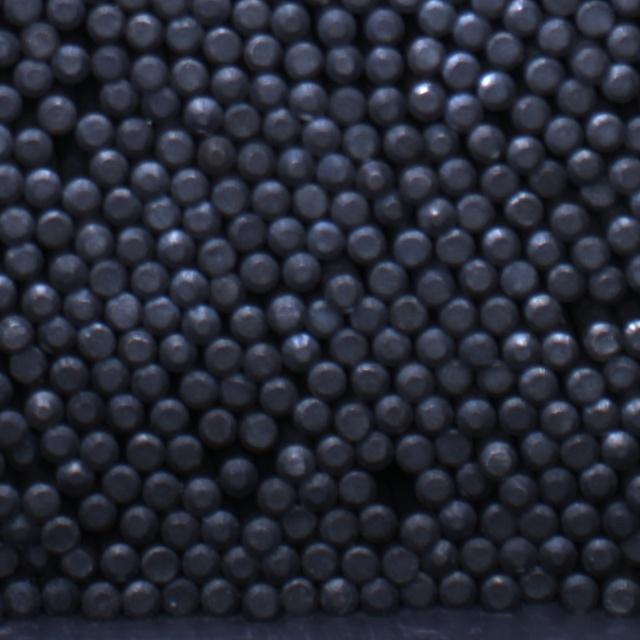tool: (98, 540, 139, 581), (584, 110, 624, 151), (455, 397, 496, 437), (316, 6, 357, 46), (481, 224, 522, 264), (220, 457, 260, 498), (476, 69, 516, 110), (266, 292, 306, 333), (522, 292, 564, 331), (442, 90, 482, 130), (38, 92, 78, 132), (272, 1, 312, 41), (22, 282, 62, 322), (357, 502, 397, 542), (145, 470, 185, 510), (355, 430, 395, 470), (396, 362, 436, 402), (288, 81, 328, 121), (25, 387, 65, 427), (184, 93, 224, 133), (130, 158, 170, 198), (295, 472, 336, 511), (51, 43, 90, 84), (538, 533, 579, 572), (408, 79, 446, 121), (323, 270, 365, 308), (54, 456, 96, 494), (374, 392, 413, 432), (523, 54, 563, 93), (82, 580, 122, 619), (82, 430, 121, 470), (358, 577, 398, 616), (126, 431, 166, 470), (580, 534, 619, 574), (314, 435, 354, 474), (240, 253, 280, 292), (76, 221, 116, 260), (198, 407, 237, 447), (416, 327, 456, 366), (281, 332, 321, 371), (183, 306, 223, 345), (40, 576, 80, 615), (169, 268, 209, 307), (439, 499, 478, 539), (182, 474, 221, 514), (120, 505, 160, 544), (583, 320, 622, 360), (561, 573, 600, 613), (200, 509, 240, 548), (160, 509, 201, 547), (578, 462, 619, 500), (568, 42, 606, 83), (369, 259, 408, 298), (307, 220, 346, 259), (333, 400, 372, 439), (319, 577, 358, 616), (16, 125, 55, 164), (396, 432, 435, 471), (440, 49, 479, 88), (79, 492, 118, 531), (549, 199, 588, 238), (238, 141, 277, 180), (160, 332, 199, 371), (117, 116, 156, 155), (1, 578, 40, 617), (394, 226, 434, 264), (24, 166, 62, 206), (140, 544, 180, 582), (200, 578, 240, 616), (602, 64, 640, 104), (348, 295, 388, 333), (156, 127, 196, 165), (144, 294, 182, 334), (278, 576, 318, 614), (178, 369, 218, 407), (504, 189, 544, 227), (346, 224, 386, 262), (4, 242, 44, 280), (518, 502, 558, 540), (416, 265, 454, 305), (480, 573, 520, 611), (131, 363, 171, 401), (499, 396, 539, 434), (400, 511, 440, 549), (476, 439, 516, 477), (197, 136, 237, 174), (306, 297, 344, 337), (49, 254, 89, 292), (355, 158, 395, 196), (40, 514, 79, 552), (301, 541, 340, 579), (35, 209, 74, 247), (435, 428, 474, 466), (254, 179, 293, 217), (103, 462, 142, 500), (308, 360, 347, 398), (78, 321, 117, 359), (519, 364, 558, 402), (282, 251, 321, 289), (560, 502, 599, 540), (204, 336, 243, 374), (544, 115, 582, 154), (117, 225, 156, 263), (63, 177, 102, 215), (547, 262, 586, 300), (340, 544, 379, 582), (468, 124, 507, 162), (523, 429, 562, 467), (459, 536, 497, 575), (161, 578, 200, 616), (14, 57, 53, 95), (261, 375, 299, 414), (343, 122, 382, 160), (211, 177, 250, 215), (350, 360, 389, 398), (368, 85, 406, 124), (268, 216, 307, 254), (126, 10, 165, 48), (416, 468, 455, 506), (277, 147, 316, 185), (383, 122, 422, 160), (303, 117, 342, 155), (245, 341, 284, 379), (372, 326, 411, 364), (292, 396, 331, 434), (452, 8, 491, 46), (284, 40, 323, 78), (316, 152, 355, 190), (406, 36, 444, 75), (503, 328, 542, 366), (197, 236, 236, 274), (184, 199, 223, 237), (51, 354, 91, 391), (414, 394, 454, 431), (22, 480, 62, 517), (540, 399, 580, 436), (182, 543, 222, 580), (275, 442, 315, 479), (242, 514, 282, 551), (36, 316, 76, 353), (41, 423, 81, 460), (437, 156, 477, 193), (101, 79, 141, 116), (66, 391, 106, 428), (374, 189, 414, 226), (602, 428, 640, 466), (330, 86, 368, 124), (122, 580, 160, 618), (456, 192, 494, 230), (11, 344, 49, 382), (566, 366, 604, 404), (507, 133, 545, 171), (542, 329, 580, 367), (223, 544, 261, 582), (480, 294, 518, 332), (438, 297, 476, 335), (106, 186, 144, 224), (228, 211, 266, 249), (326, 43, 364, 81), (158, 228, 196, 266), (457, 463, 495, 501), (90, 260, 129, 297), (560, 433, 599, 470), (239, 412, 278, 449), (436, 228, 475, 265), (76, 111, 115, 148), (364, 5, 403, 42), (332, 190, 371, 227), (106, 393, 145, 430), (439, 569, 478, 606), (556, 78, 595, 115), (498, 537, 537, 574), (390, 294, 430, 330), (318, 509, 358, 545), (460, 259, 500, 295), (150, 398, 190, 434), (140, 83, 181, 118), (105, 290, 142, 328), (502, 261, 540, 298), (382, 544, 419, 582), (540, 467, 578, 504), (170, 165, 208, 202), (602, 576, 639, 614), (481, 163, 519, 200), (528, 159, 566, 196), (167, 434, 204, 472), (21, 21, 59, 58), (422, 121, 460, 158), (251, 72, 288, 110), (244, 33, 282, 70), (565, 147, 603, 184), (91, 44, 129, 81), (588, 264, 626, 301), (526, 228, 563, 266), (417, 196, 455, 233), (210, 66, 248, 103), (264, 108, 302, 145), (400, 162, 438, 199), (258, 476, 297, 512), (572, 234, 611, 270), (64, 286, 103, 322), (477, 359, 516, 395), (435, 358, 474, 394), (364, 46, 403, 82), (512, 94, 551, 130), (518, 564, 557, 600), (419, 536, 458, 572), (576, 0, 616, 35), (131, 54, 168, 91), (229, 303, 266, 340), (401, 571, 438, 608), (331, 328, 369, 364), (170, 56, 208, 92), (487, 30, 525, 66), (91, 147, 129, 183), (204, 24, 242, 60), (480, 503, 516, 541), (165, 16, 203, 52), (262, 544, 300, 580), (94, 356, 132, 392), (130, 261, 168, 297), (582, 397, 620, 433), (1, 203, 36, 242), (458, 332, 498, 366), (602, 501, 638, 538), (292, 183, 328, 220), (224, 101, 261, 137), (537, 17, 573, 54), (120, 329, 158, 364), (88, 2, 126, 37), (338, 470, 376, 505), (221, 372, 259, 407), (1, 516, 39, 551), (499, 472, 538, 506), (603, 353, 639, 389), (242, 582, 278, 618), (282, 505, 318, 541), (416, 0, 454, 34), (58, 545, 96, 579), (607, 215, 640, 254), (607, 22, 640, 61), (504, 0, 541, 34), (0, 314, 34, 350), (146, 196, 182, 230), (608, 154, 640, 192), (233, 0, 271, 31), (47, 0, 87, 29), (0, 408, 29, 447), (209, 273, 242, 307), (581, 180, 615, 210), (0, 162, 24, 203), (193, 0, 234, 24), (3, 0, 44, 23), (0, 84, 23, 120), (622, 313, 640, 359), (0, 481, 21, 520), (620, 527, 640, 567), (0, 27, 20, 66), (622, 393, 640, 435), (0, 272, 18, 311), (624, 110, 640, 153), (0, 540, 19, 574), (153, 0, 193, 16), (625, 468, 640, 508), (471, 0, 508, 16), (626, 250, 640, 292), (0, 120, 14, 161), (540, 0, 580, 14), (610, 0, 640, 16), (386, 0, 426, 12), (339, 0, 382, 11), (112, 0, 151, 11), (629, 183, 640, 220)
void: (372, 466, 416, 508)
